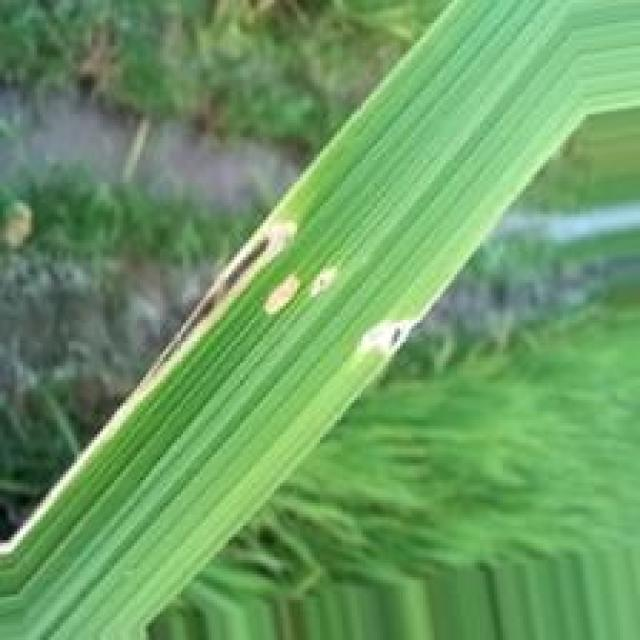Rice_Hispa: (5, 220, 299, 553), (356, 319, 418, 353), (266, 277, 298, 312), (314, 268, 336, 296)
